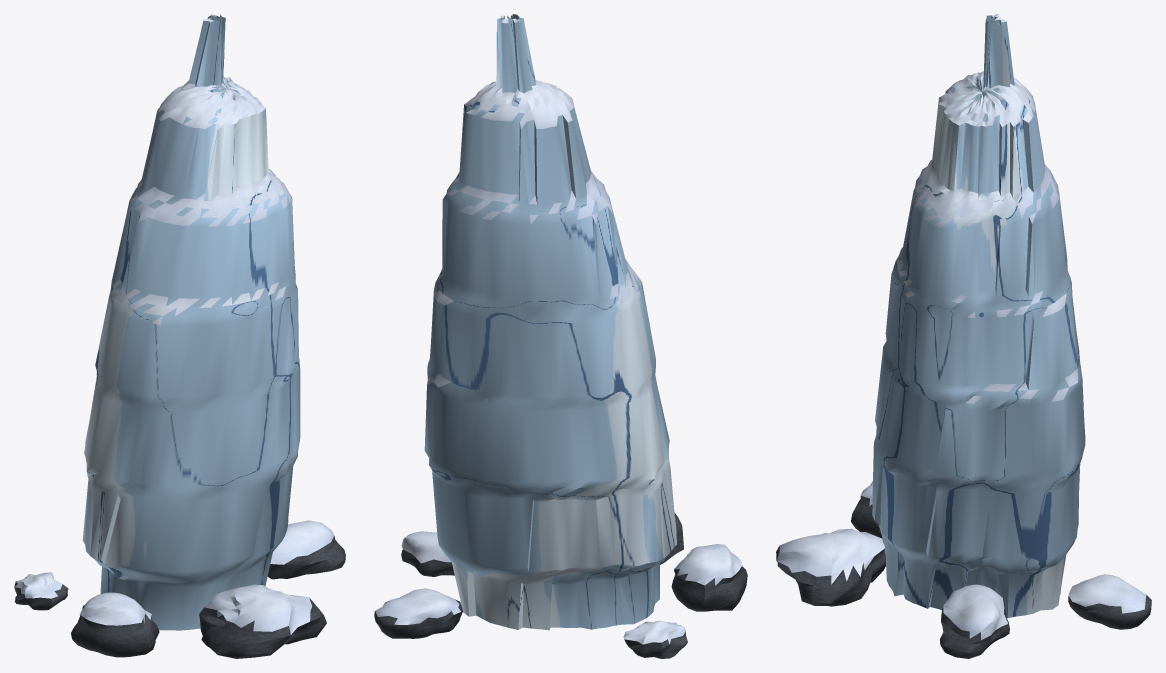
The model's file is SM_Snow_IceSpire_A.glb.
3 views of the same model, side by side, from view 1: azimuth 30°, elevation 25°; view 2: azimuth 150°, elevation 25°; view 3: azimuth 270°, elevation 25° (orthographic). The views are drawn at different scales.
Parts seen in each view (by area): view 1: SM_Snow_IceSpire_A; view 2: SM_Snow_IceSpire_A; view 3: SM_Snow_IceSpire_A.
Part boxes in pixels (box(x1,y1,x2,y2)): SM_Snow_IceSpire_A: box(14, 14, 345, 658); SM_Snow_IceSpire_A: box(374, 14, 747, 658); SM_Snow_IceSpire_A: box(776, 14, 1151, 658).
Bounding box in the file's own units: 3.72 × 6.6 × 3.85.
3 materials, 3 textured.
